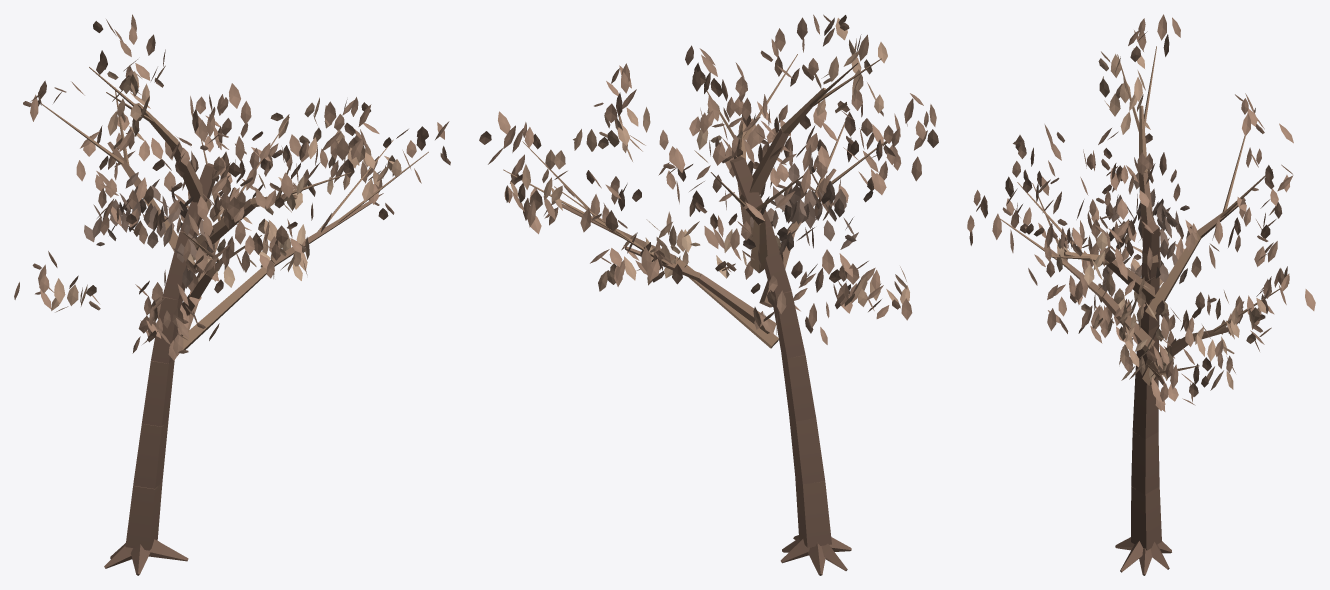
The model's file is tree_3d_04_copper.glb.
3 renders of one model, left to right at view 1: azimuth 30°, elevation 25°; view 2: azimuth 150°, elevation 25°; view 3: azimuth 270°, elevation 25°, orthographic. The views are drawn at different scales.
Parts seen in each view (by area): view 1: tree_3d_04_copper_foliage, tree_3d_04_copper_wood; view 2: tree_3d_04_copper_foliage, tree_3d_04_copper_wood; view 3: tree_3d_04_copper_foliage, tree_3d_04_copper_wood.
Part boxes in pixels (bbox=[...]): tree_3d_04_copper_foliage: bbox=[14, 14, 450, 360]; tree_3d_04_copper_wood: bbox=[41, 67, 428, 575]; tree_3d_04_copper_foliage: bbox=[479, 14, 938, 344]; tree_3d_04_copper_wood: bbox=[503, 54, 886, 575]; tree_3d_04_copper_foliage: bbox=[967, 14, 1315, 411]; tree_3d_04_copper_wood: bbox=[996, 46, 1289, 575].
Size of the model in its own units: 9.4 by 11.5 by 6.8.
